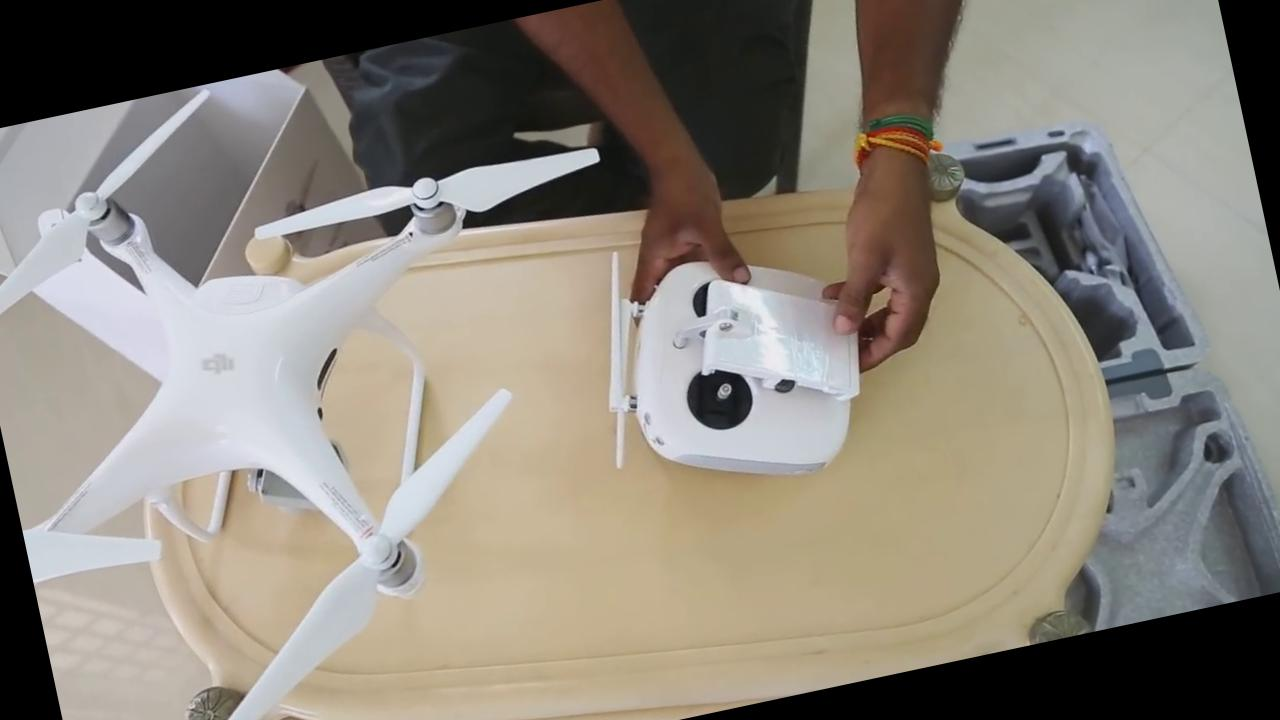drone: (0, 31, 702, 720)
